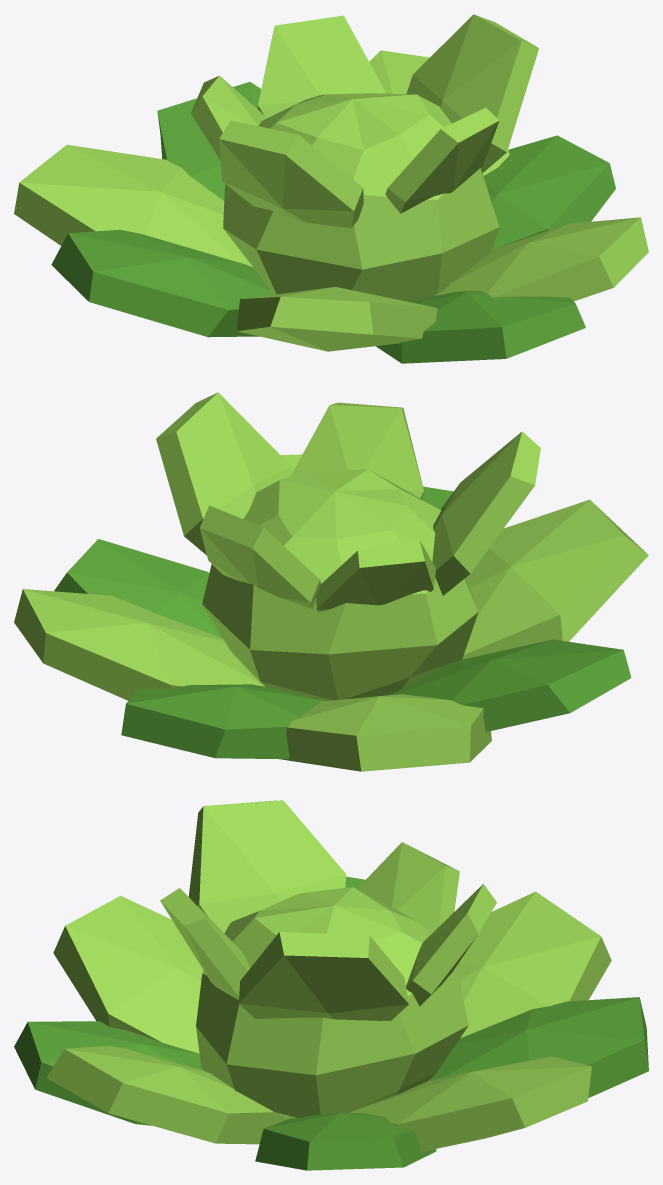
Rendered from lettuce_4.obj.
3 renders of one model, top to bottom at view 1: azimuth 30°, elevation 25°; view 2: azimuth 150°, elevation 25°; view 3: azimuth 270°, elevation 25°, orthographic.
Parts seen in each view (by area): view 1: plant; view 2: plant; view 3: plant.
Boxes of the visible parts, x1,y1,x2,y2 form: plant: [14, 14, 648, 363]; plant: [14, 392, 648, 771]; plant: [14, 800, 648, 1170].
Size of the model in its own units: 0.6546 by 0.3051 by 0.6774.
